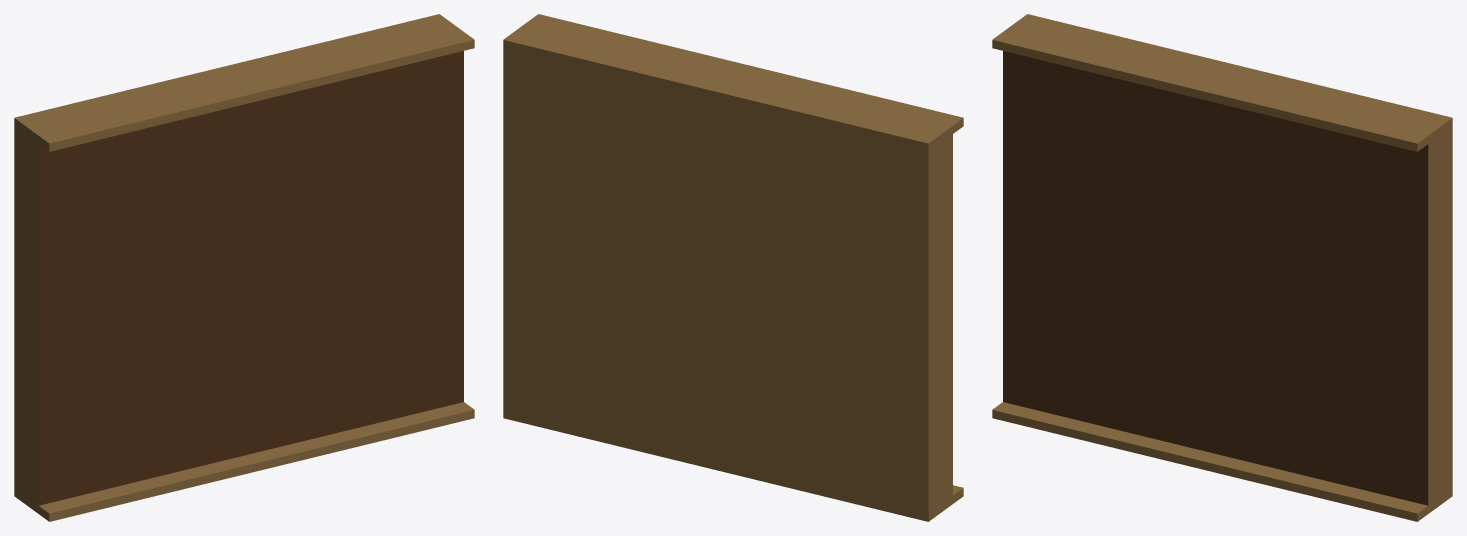
The model's file is ramp_flat.glb.
3 renders of one model, left to right at view 1: azimuth 30°, elevation 25°; view 2: azimuth 150°, elevation 25°; view 3: azimuth 330°, elevation 25°, orthographic.
Visible parts, largest first — view 1: bridge_07_ramp_flat; view 2: bridge_07_ramp_flat; view 3: bridge_07_ramp_flat.
Boxes of the visible parts, x1,y1,x2,y2 form: bridge_07_ramp_flat: (14,14,474,521); bridge_07_ramp_flat: (503,14,963,521); bridge_07_ramp_flat: (992,14,1452,521).
Bounding box in the file's own units: 16 × 13.6 × 2.3.
